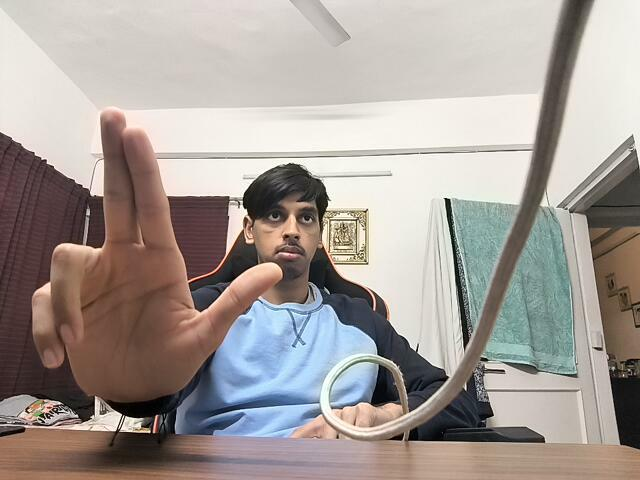FORWARD: (26, 88, 286, 405)
